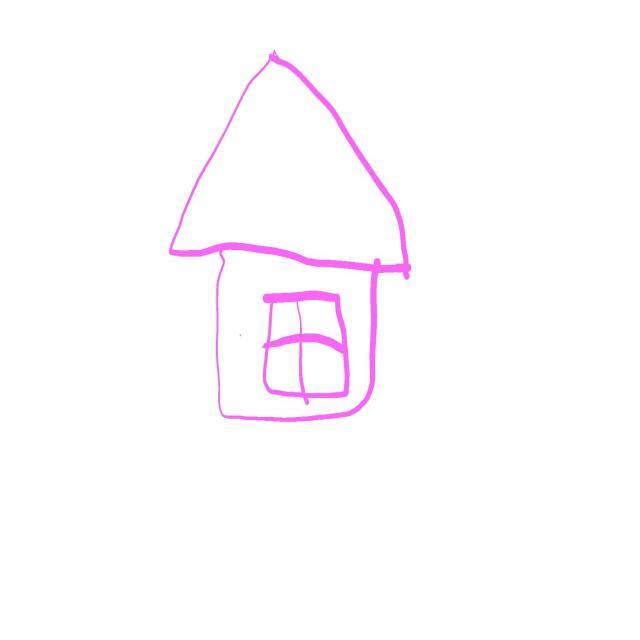house: (170, 54, 411, 422)
roof: (166, 48, 412, 273)
wall: (215, 240, 373, 416)
window: (263, 291, 350, 405)
